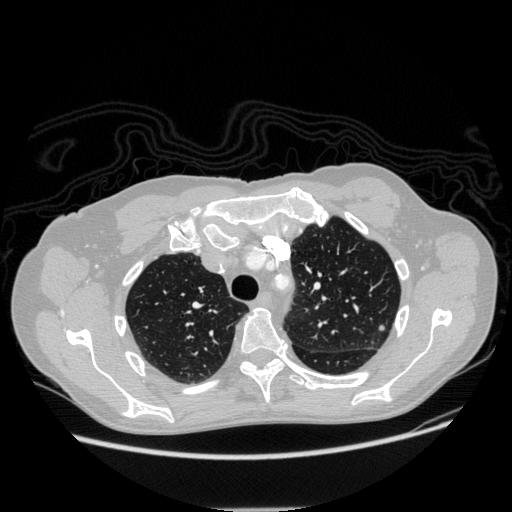nodule: (375, 322, 387, 334)
